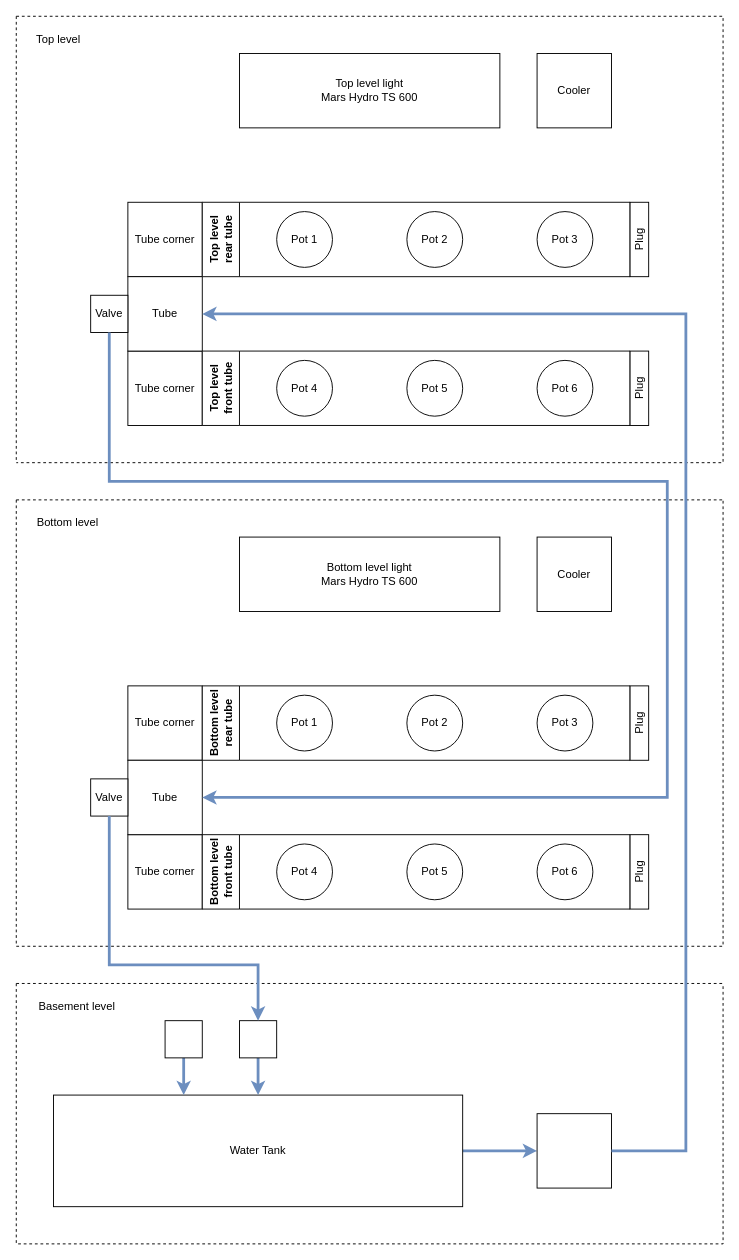
This 739x1260 diagram has some shape labels left out. Each missing label, with the centre of its shape:
"Filter" belongs at pixel 258 1039.
"Input socket" belongs at pixel 183 1039.
"Pump" belongs at pixel 573 1150.
